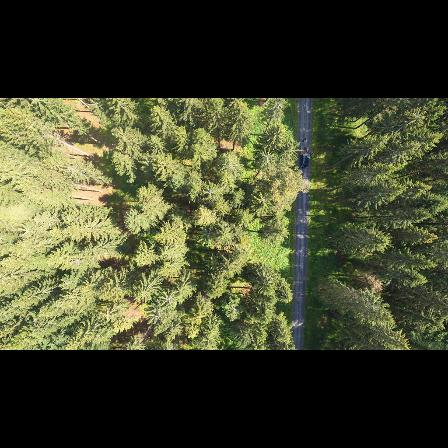Sick: (197, 178, 224, 203), (251, 186, 275, 213), (256, 144, 279, 168), (158, 288, 179, 312)
